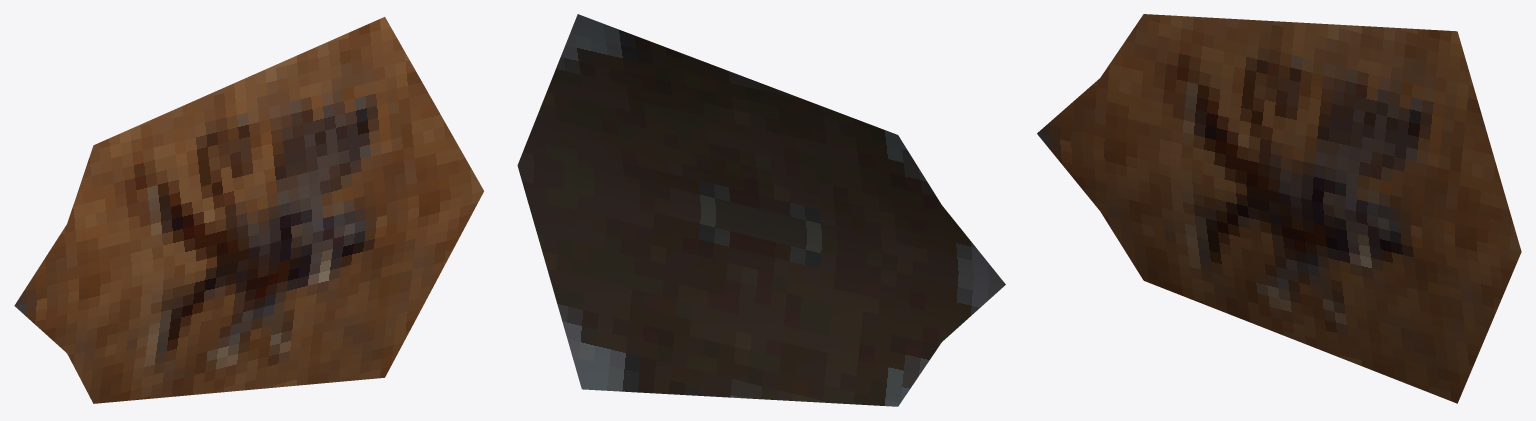
3 views of the same model, side by side, from view 1: azimuth 30°, elevation 25°; view 2: azimuth 150°, elevation 25°; view 3: azimuth 330°, elevation 25° (orthographic). The views are drawn at different scales.
Parts seen in each view (by area): view 1: it207; view 2: it207; view 3: it207.
Boxes of the visible parts, bbox=[...] form: it207: bbox=[14, 17, 483, 403]; it207: bbox=[517, 14, 1005, 406]; it207: bbox=[1037, 14, 1521, 403].
Bounding box in the file's own units: 3.06 × 2.26 × 0.2556.
2 materials, 2 textured.
